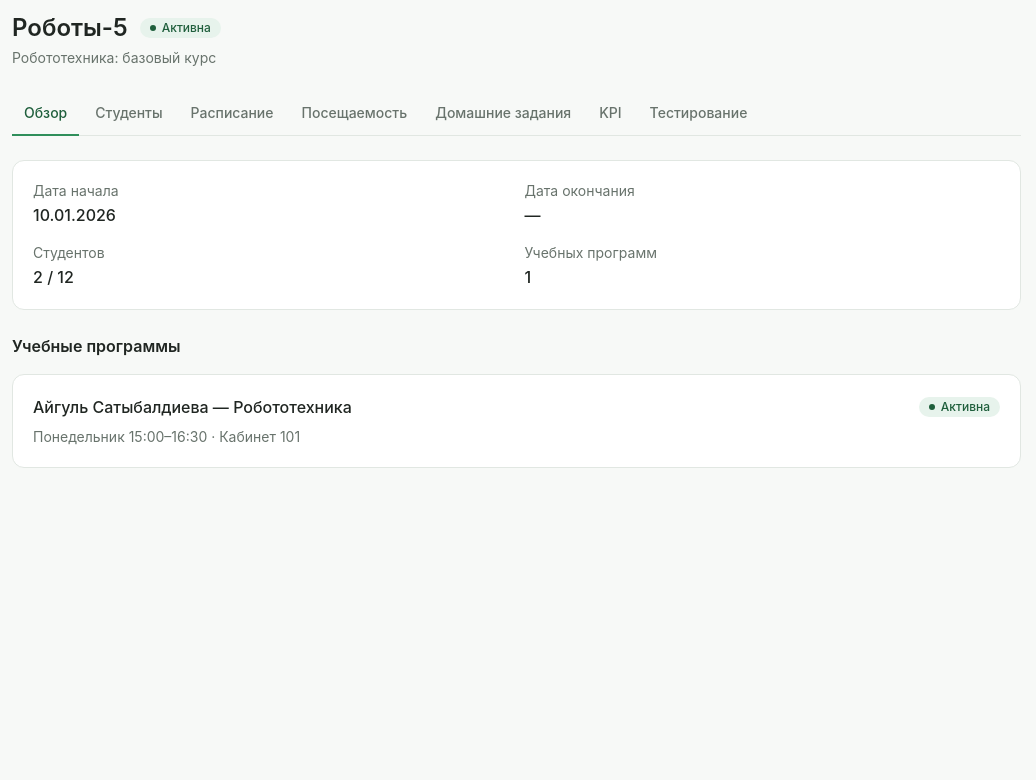
Test: «Прогресс студентов» in the group KPI › shows an empty state when the group had no students in the period
Expected: the heading "Роботы-5" is shown, [12,12,128,44]
Click the tab "KPI": x=610, y=114 [587,92,634,136]
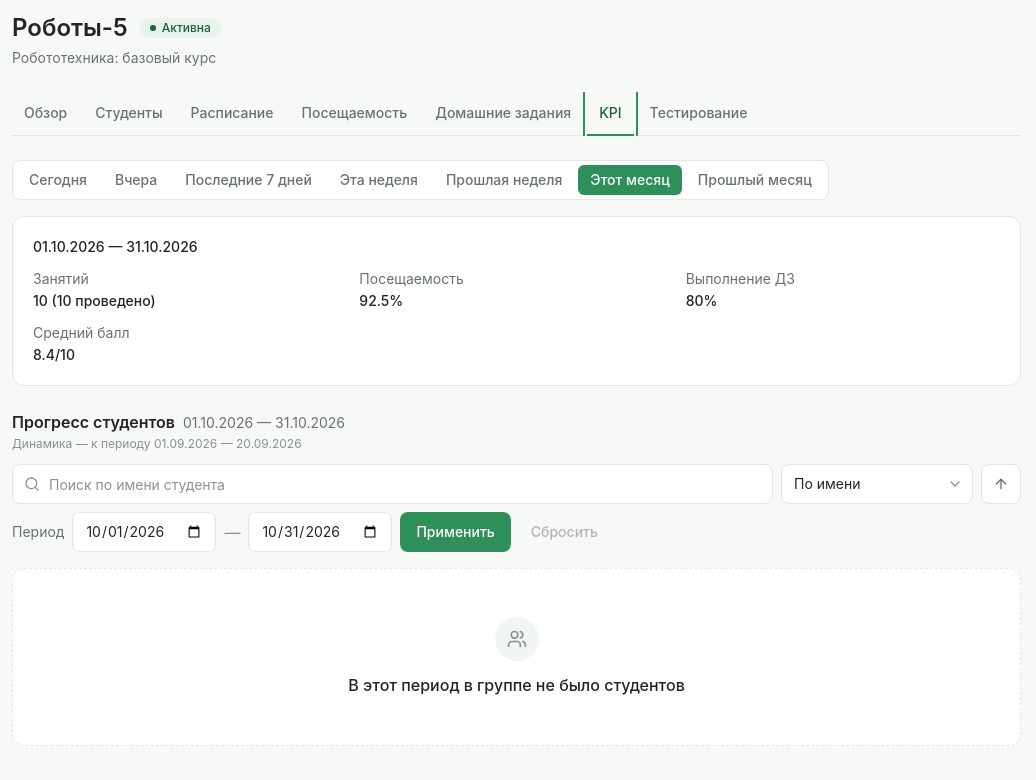
Expected: the text "В этот период в группе не было студентов" is shown, [348,673,685,697]
